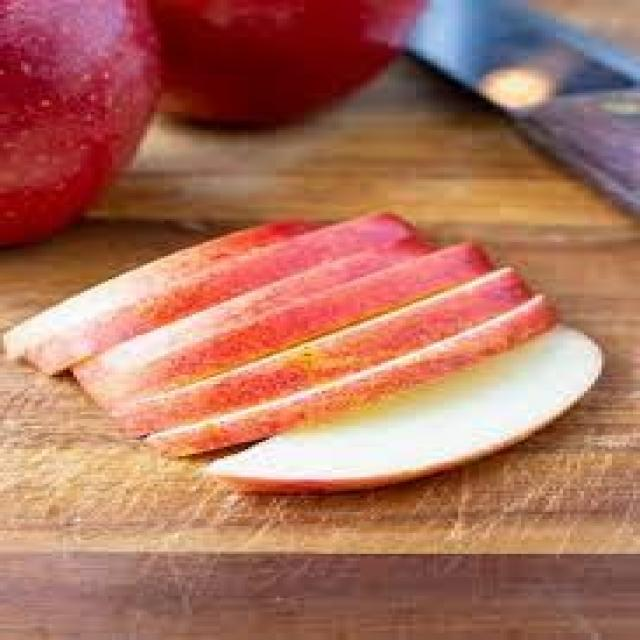Apple: (80, 272, 560, 475), (182, 308, 629, 508), (84, 228, 514, 428), (0, 205, 329, 405)
